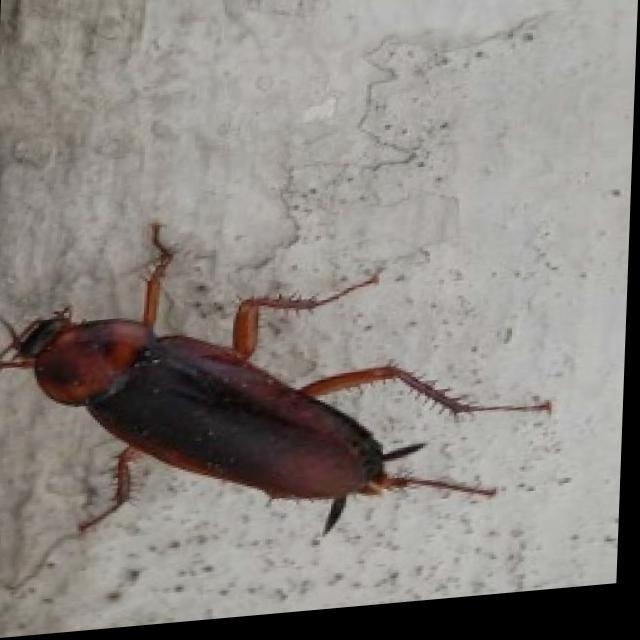cockroach: (2, 218, 556, 543)
